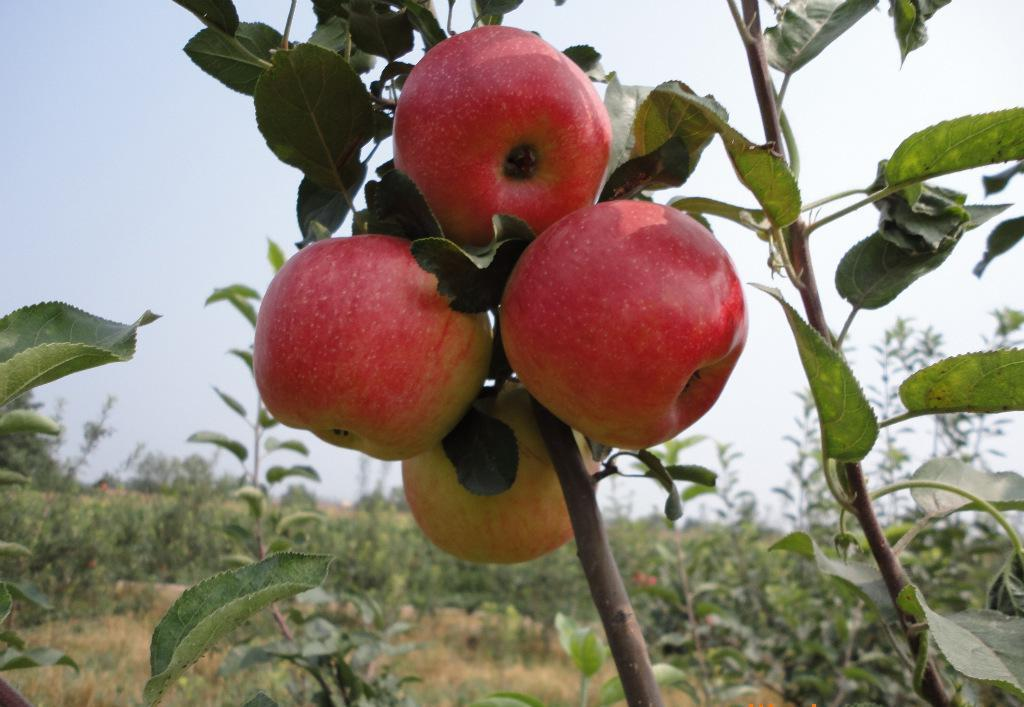apple: (502, 199, 748, 452), (254, 233, 490, 461), (393, 26, 611, 242), (399, 385, 599, 565)
